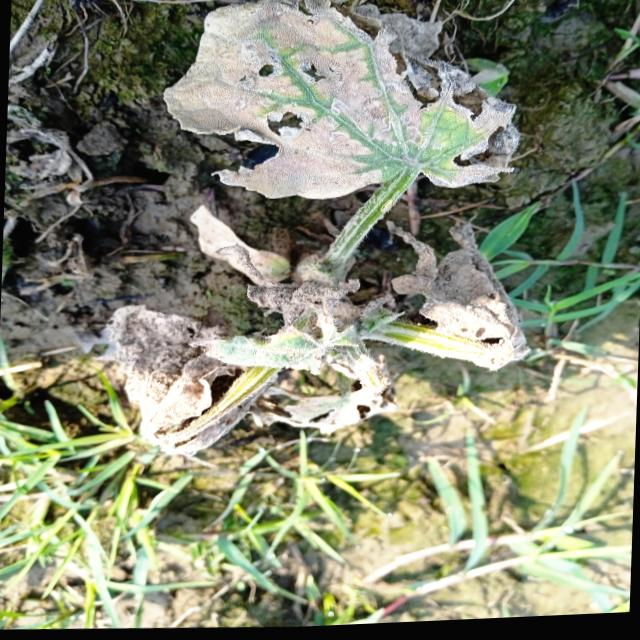Bacterial-Wilt: (103, 304, 281, 462), (385, 211, 533, 381)
